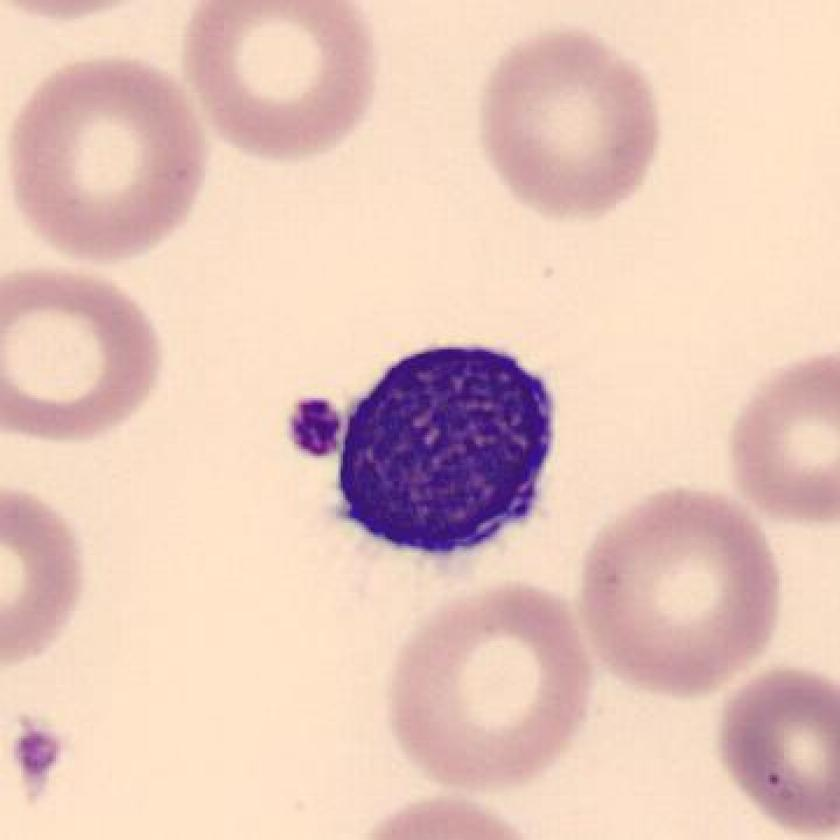lymphocyte: (326, 318, 571, 573)
